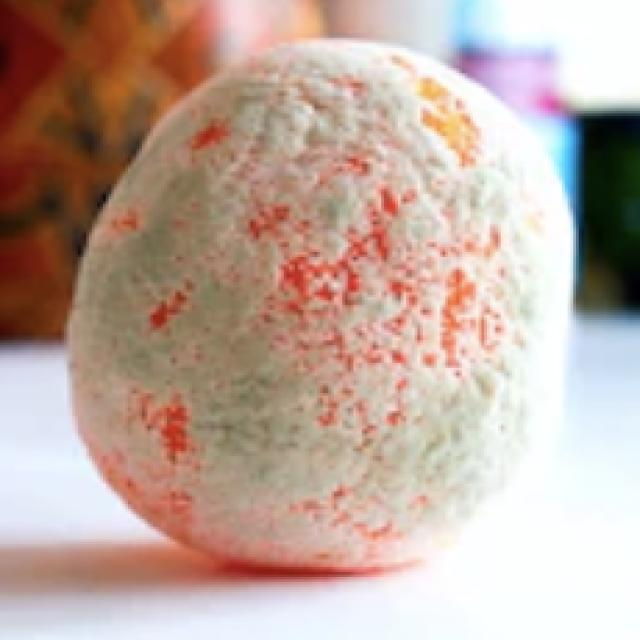sangat_busuk: (56, 32, 575, 582)
